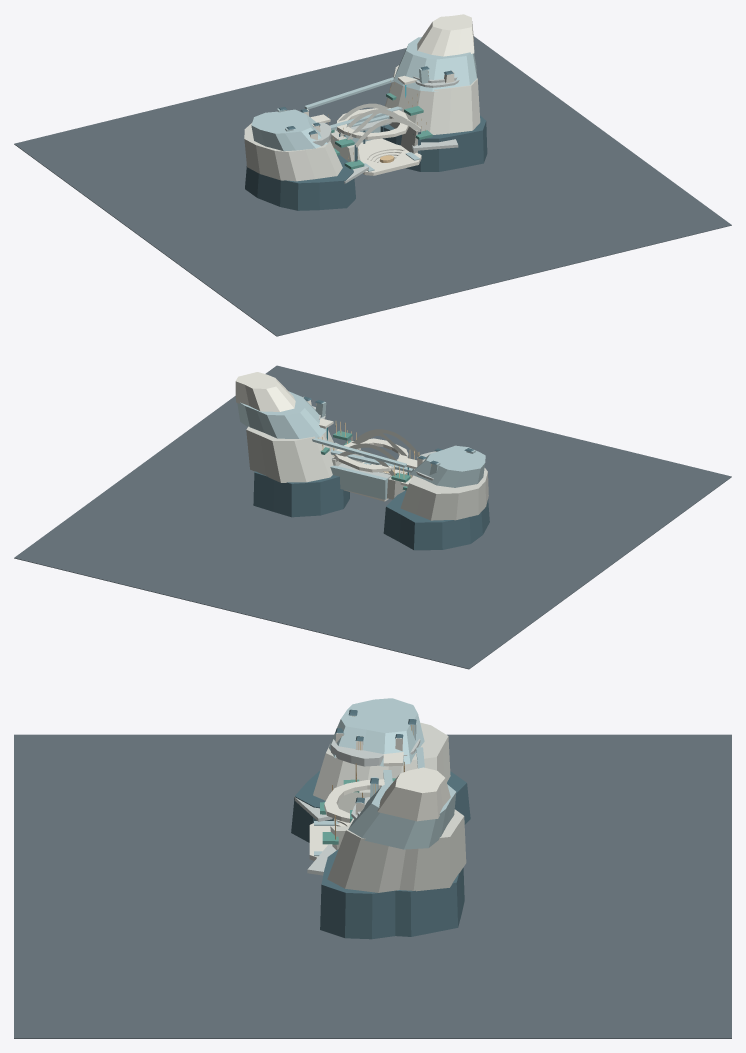
The model's file is J7R5_INHABITED_CIVIC_SECTION_NONCANONICAL.glb.
3 views of the same model, one above another, from view 1: azimuth 30°, elevation 25°; view 2: azimuth 150°, elevation 25°; view 3: azimuth 270°, elevation 25° (orthographic). The views are drawn at different scales.
Visible parts, largest first — view 1: NONCANONICAL_10KM_BASIS, EAST_MAIN_RESIDENTIAL_MASS, WEST_FOUNDATION_BUTTRESS, WEST_HIGH_CITY_MASS, EAST_FOUNDATION_BUTTRESS, EAST_UPPER_CIVIC_CITY, WEST_CROWN_CIVIC_RIDGE, EAST_CROWN_INHABITED_PEAK, NAVE_PUBLIC_ASSEMBLY_HALL_FLOOR, NAVE_UPPER_OPEN_OCULUS; view 2: NONCANONICAL_10KM_BASIS, EAST_MAIN_RESIDENTIAL_MASS, WEST_FOUNDATION_BUTTRESS, EAST_FOUNDATION_BUTTRESS, WEST_HIGH_CITY_MASS, EAST_UPPER_CIVIC_CITY, WEST_CROWN_CIVIC_RIDGE, EAST_CROWN_INHABITED_PEAK, NAVE_PUBLIC_NORTH_READING_WALL, NAVE_UPPER_OPEN_OCULUS, CITY_SKYBRIDGE_FORUM_B; view 3: NONCANONICAL_10KM_BASIS, EAST_FOUNDATION_BUTTRESS, EAST_MAIN_RESIDENTIAL_MASS, WEST_CROWN_CIVIC_RIDGE, EAST_UPPER_CIVIC_CITY, WEST_HIGH_CITY_MASS, EAST_CROWN_INHABITED_PEAK, WEST_FOUNDATION_BUTTRESS, NAVE_UPPER_OPEN_OCULUS, WEST_CITY_SKYWELL.
Boxes of the visible parts, x1=… form: NONCANONICAL_10KM_BASIS: x1=14, y1=36, x2=731, y2=336; EAST_MAIN_RESIDENTIAL_MASS: x1=385, y1=65, x2=480, y2=134; WEST_FOUNDATION_BUTTRESS: x1=245, y1=155, x2=355, y2=210; WEST_HIGH_CITY_MASS: x1=244, y1=123, x2=342, y2=181; EAST_FOUNDATION_BUTTRESS: x1=380, y1=115, x2=487, y2=171; EAST_UPPER_CIVIC_CITY: x1=393, y1=37, x2=476, y2=91; WEST_CROWN_CIVIC_RIDGE: x1=251, y1=109, x2=327, y2=151; EAST_CROWN_INHABITED_PEAK: x1=417, y1=14, x2=474, y2=56; NAVE_PUBLIC_ASSEMBLY_HALL_FLOOR: x1=358, y1=138, x2=421, y2=175; NAVE_UPPER_OPEN_OCULUS: x1=337, y1=108, x2=408, y2=139; NONCANONICAL_10KM_BASIS: x1=14, y1=365, x2=731, y2=669; EAST_MAIN_RESIDENTIAL_MASS: x1=246, y1=426, x2=336, y2=482; WEST_FOUNDATION_BUTTRESS: x1=383, y1=490, x2=489, y2=550; EAST_FOUNDATION_BUTTRESS: x1=253, y1=448, x2=349, y2=517; WEST_HIGH_CITY_MASS: x1=400, y1=468, x2=488, y2=520; EAST_UPPER_CIVIC_CITY: x1=237, y1=391, x2=326, y2=438; WEST_CROWN_CIVIC_RIDGE: x1=410, y1=445, x2=485, y2=487; EAST_CROWN_INHABITED_PEAK: x1=235, y1=372, x2=295, y2=411; NAVE_PUBLIC_NORTH_READING_WALL: x1=330, y1=465, x2=387, y2=499; NAVE_UPPER_OPEN_OCULUS: x1=334, y1=438, x2=408, y2=472; CITY_SKYBRIDGE_FORUM_B: x1=312, y1=438, x2=406, y2=467; NONCANONICAL_10KM_BASIS: x1=14, y1=734, x2=731, y2=1038; EAST_FOUNDATION_BUTTRESS: x1=320, y1=849, x2=464, y2=939; EAST_MAIN_RESIDENTIAL_MASS: x1=327, y1=809, x2=466, y2=892; WEST_CROWN_CIVIC_RIDGE: x1=328, y1=698, x2=424, y2=766; EAST_UPPER_CIVIC_CITY: x1=348, y1=781, x2=456, y2=849; WEST_HIGH_CITY_MASS: x1=313, y1=722, x2=450, y2=800; EAST_CROWN_INHABITED_PEAK: x1=377, y1=767, x2=450, y2=821; WEST_FOUNDATION_BUTTRESS: x1=291, y1=771, x2=470, y2=842; NAVE_UPPER_OPEN_OCULUS: x1=324, y1=779, x2=384, y2=822; WEST_CITY_SKYWELL: x1=331, y1=739, x2=383, y2=766.
Bounding box in the file's own units: 10000 × 2640 × 10000.
